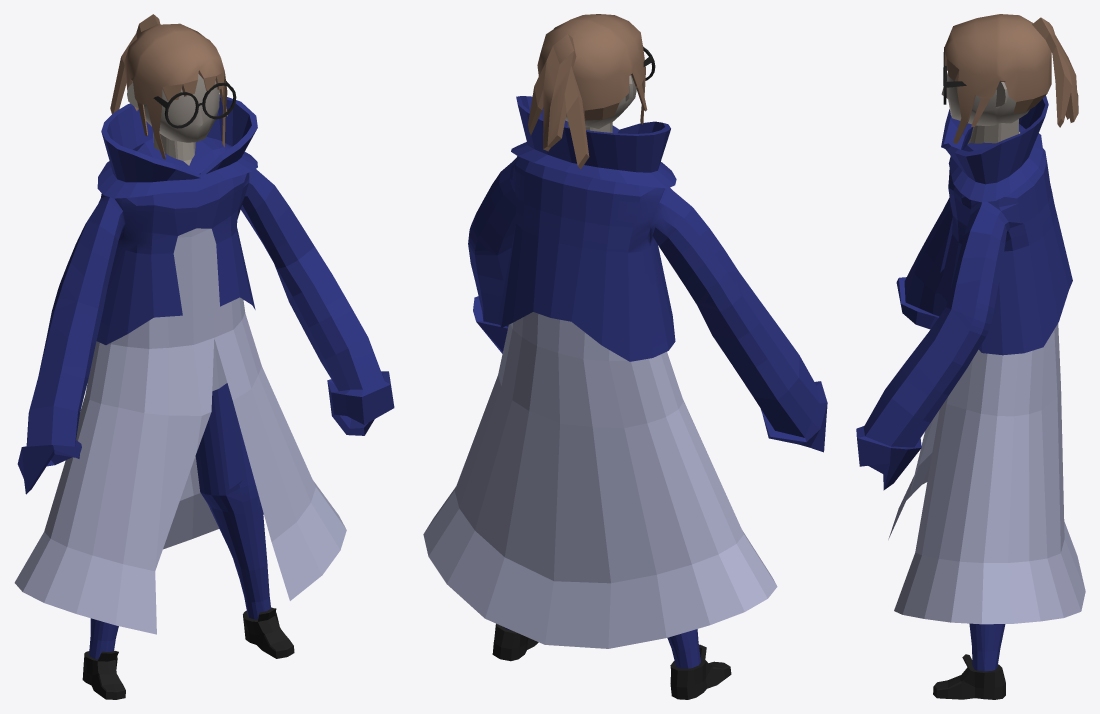
Rendered from Lapis_IdleAnimFix1.fbx.
3 views of the same model, side by side, from view 1: azimuth 30°, elevation 25°; view 2: azimuth 150°, elevation 25°; view 3: azimuth 270°, elevation 25° (orthographic). The views are drawn at different scales.
Visible parts, largest first — view 1: LBody, LHair, LHead, LGlasses; view 2: LBody, LHair; view 3: LBody, LHair, LHead.
Part boxes in pixels (x1=…): LBody: x1=14, y1=94, x2=394, y2=699; LHair: x1=110, y1=14, x2=227, y2=159; LHead: x1=127, y1=74, x2=219, y2=142; LGlasses: x1=153, y1=81, x2=236, y2=128; LBody: x1=423, y1=96, x2=827, y2=699; LHair: x1=528, y1=14, x2=647, y2=169; LBody: x1=856, y1=95, x2=1085, y2=699; LHair: x1=944, y1=14, x2=1078, y2=143; LHead: x1=941, y1=72, x2=1029, y2=125.
Size of the model in its own units: 423 by 720 by 234.
